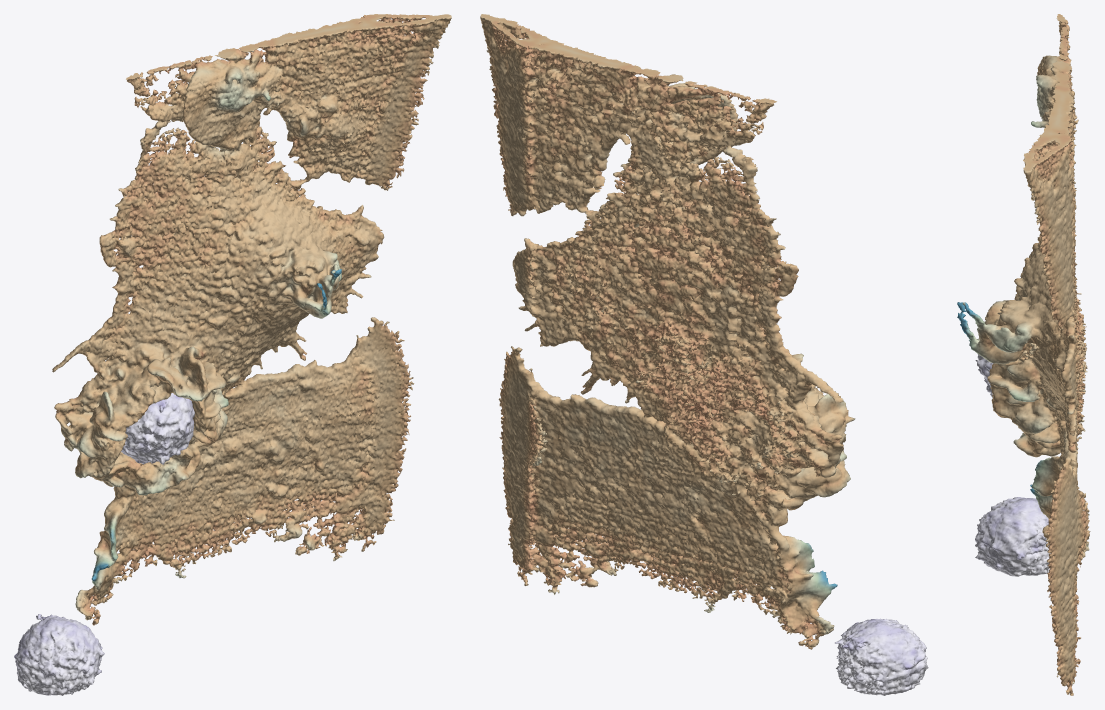
Rendered from Surfaces_6.glb.
3 views of the same model, side by side, from view 1: azimuth 30°, elevation 25°; view 2: azimuth 150°, elevation 25°; view 3: azimuth 270°, elevation 25° (orthographic). The views are drawn at different scales.
Visible parts, largest first — view 1: surface (×2); view 2: surface (×2); view 3: surface (×2).
Part boxes in pixels (box(x1,y1,x2,y2)): surface (×2): box(14, 14, 451, 695); surface (×2): box(480, 14, 928, 695); surface (×2): box(957, 14, 1090, 695).
Bounding box in the file's own units: 613 × 764 × 156.
